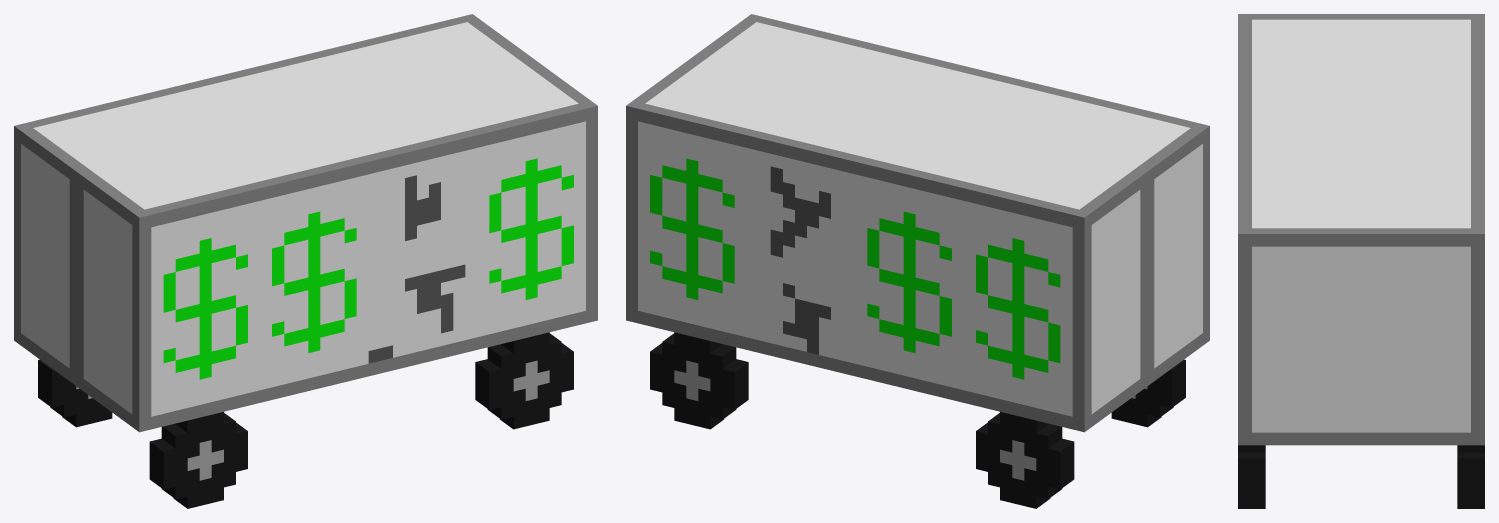
Rendered from container1_health3.obj.
The picture shows the model from 3 angles, left to right: view 1: azimuth 30°, elevation 25°; view 2: azimuth 150°, elevation 25°; view 3: azimuth 270°, elevation 25°; orthographic projection.
Visible parts, largest first — view 1: container1_health3; view 2: container1_health3; view 3: container1_health3.
Part boxes in pixels (x1,y1,x2,y2): container1_health3: (14,14,597,508); container1_health3: (626,14,1209,508); container1_health3: (1238,14,1484,508).
Size of the model in its own units: 38 by 24 by 18.
Materials: 1 (1 with a texture image).
